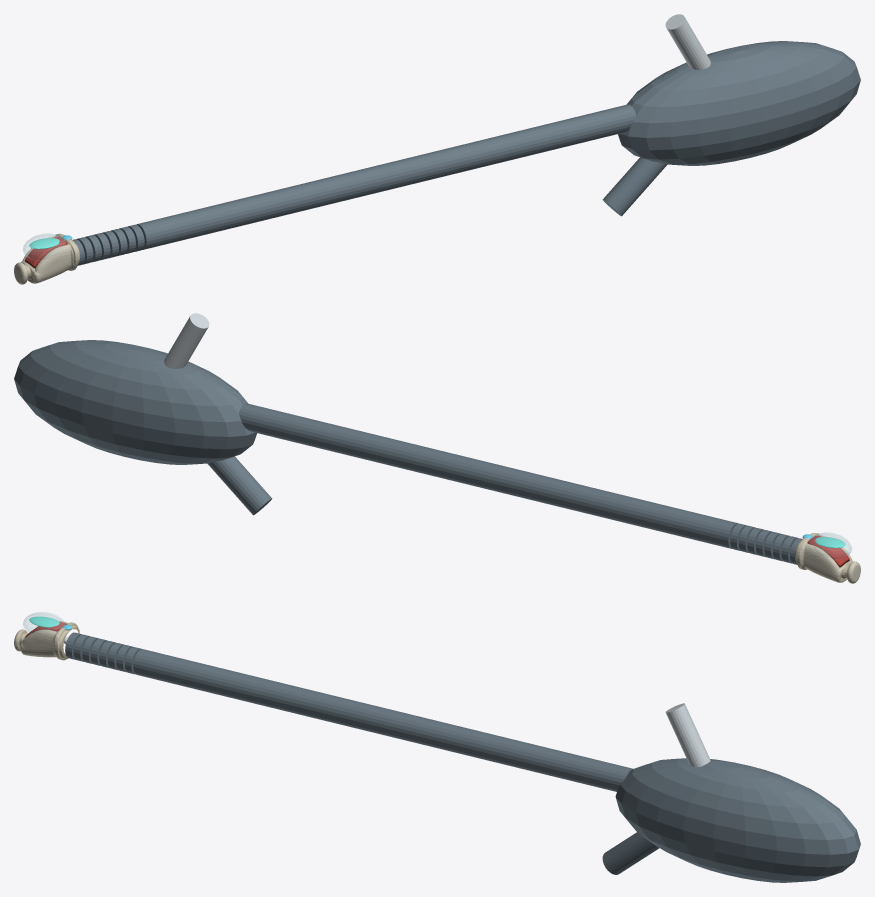
File: ebus-scope-teaching.glb
3 views of the same model, one above another, from view 1: azimuth 30°, elevation 25°; view 2: azimuth 150°, elevation 25°; view 3: azimuth 330°, elevation 25° (orthographic).
Parts seen in each view (by area): view 1: control_body, insertion_shaft, legacy_distal_body, instrument_port, angulation_lever, balloon; view 2: control_body, insertion_shaft, legacy_distal_body, instrument_port, angulation_lever, balloon; view 3: control_body, insertion_shaft, legacy_distal_body, angulation_lever, instrument_port, balloon.
Part boxes in pixels (x1=…): control_body: x1=618, y1=41, x2=860, y2=165; insertion_shaft: x1=136, y1=104, x2=635, y2=249; legacy_distal_body: x1=14, y1=233, x2=79, y2=284; instrument_port: x1=602, y1=157, x2=667, y2=216; angulation_lever: x1=665, y1=14, x2=710, y2=69; balloon: x1=23, y1=233, x2=64, y2=260; control_body: x1=14, y1=340, x2=256, y2=464; insertion_shaft: x1=239, y1=403, x2=738, y2=548; legacy_distal_body: x1=795, y1=533, x2=860, y2=583; instrument_port: x1=207, y1=456, x2=272, y2=515; angulation_lever: x1=164, y1=313, x2=209, y2=368; balloon: x1=809, y1=532, x2=851, y2=558; control_body: x1=615, y1=758, x2=860, y2=882; insertion_shaft: x1=133, y1=649, x2=633, y2=791; legacy_distal_body: x1=14, y1=621, x2=79, y2=660; angulation_lever: x1=665, y1=703, x2=710, y2=767; instrument_port: x1=602, y1=832, x2=659, y2=874; balloon: x1=23, y1=612, x2=64, y2=634.
Size of the model in its own units: 0.2268 by 0.0475 by 0.023.
Materials: 6 (1 with a texture image).
